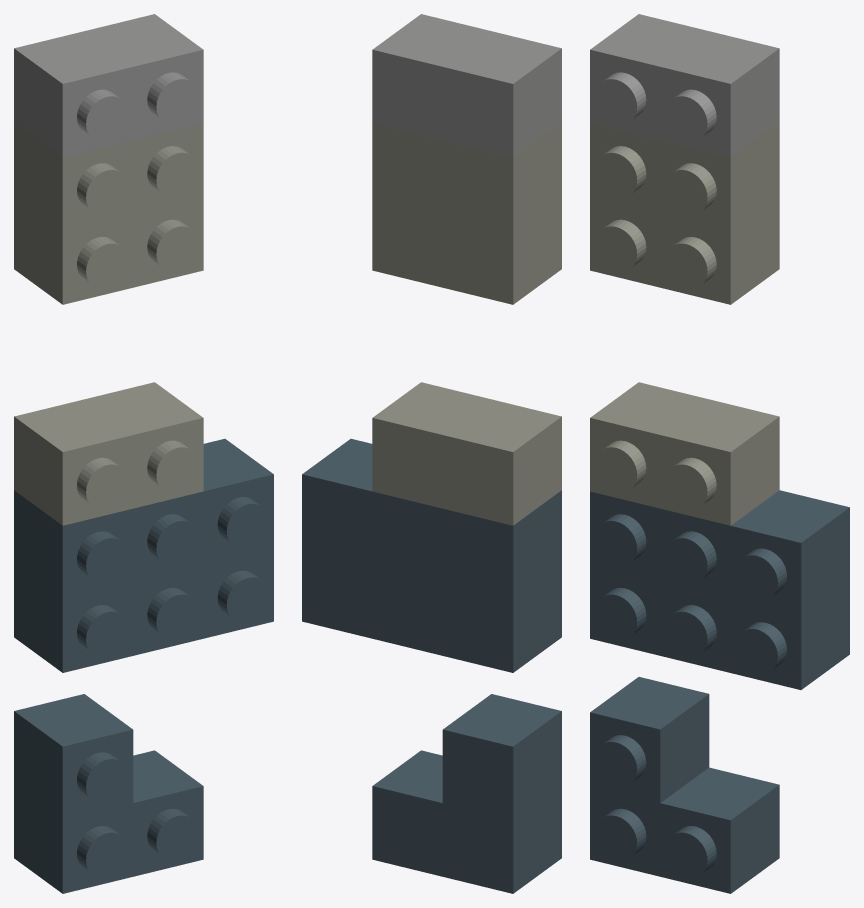
The model's file is current.glb.
3 renders of one model, left to right at view 1: azimuth 30°, elevation 25°; view 2: azimuth 150°, elevation 25°; view 3: azimuth 330°, elevation 25°, orthographic.
Parts seen in each view (by area): view 1: world; view 2: world; view 3: world.
Boxes of the visible parts, x1=… form: world: x1=14, y1=14, x2=273, y2=893; world: x1=302, y1=14, x2=561, y2=893; world: x1=590, y1=14, x2=849, y2=893.
Size of the model in its own units: 24 by 88 by 11.4.
